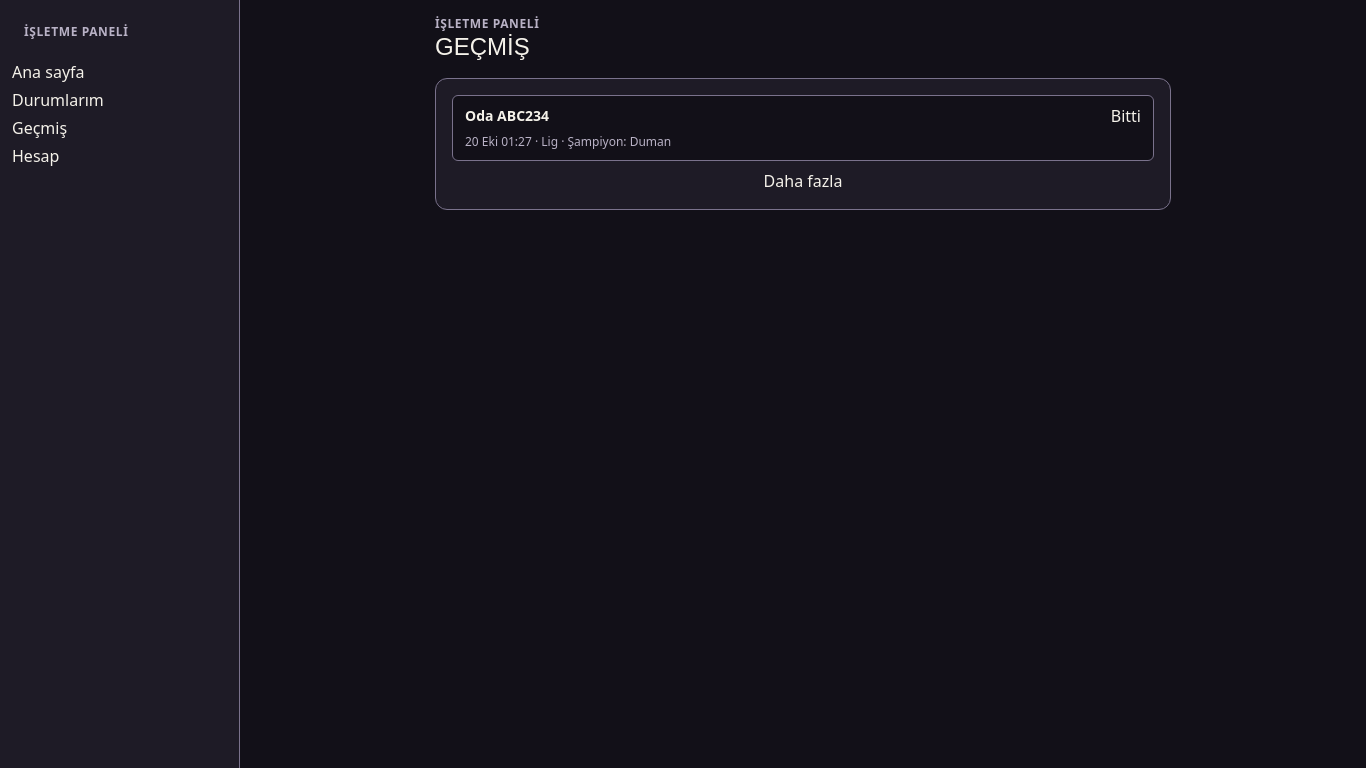
Test: BusinessHistoryPage › imleçle daha fazla yükler ve liste bitince butonu kaldırır
The width and height of the screenshot is (1366, 768).
Expected: the link "Oda ABC234 Bitti 20 Eki 01:27 · Lig · Şampiyon: Duman" is shown, x1=452 y1=95 x2=1154 y2=161
Click the button "Daha fazla". click: {"x": 803, "y": 181}
box: x1=452 y1=169 x2=1154 y2=193
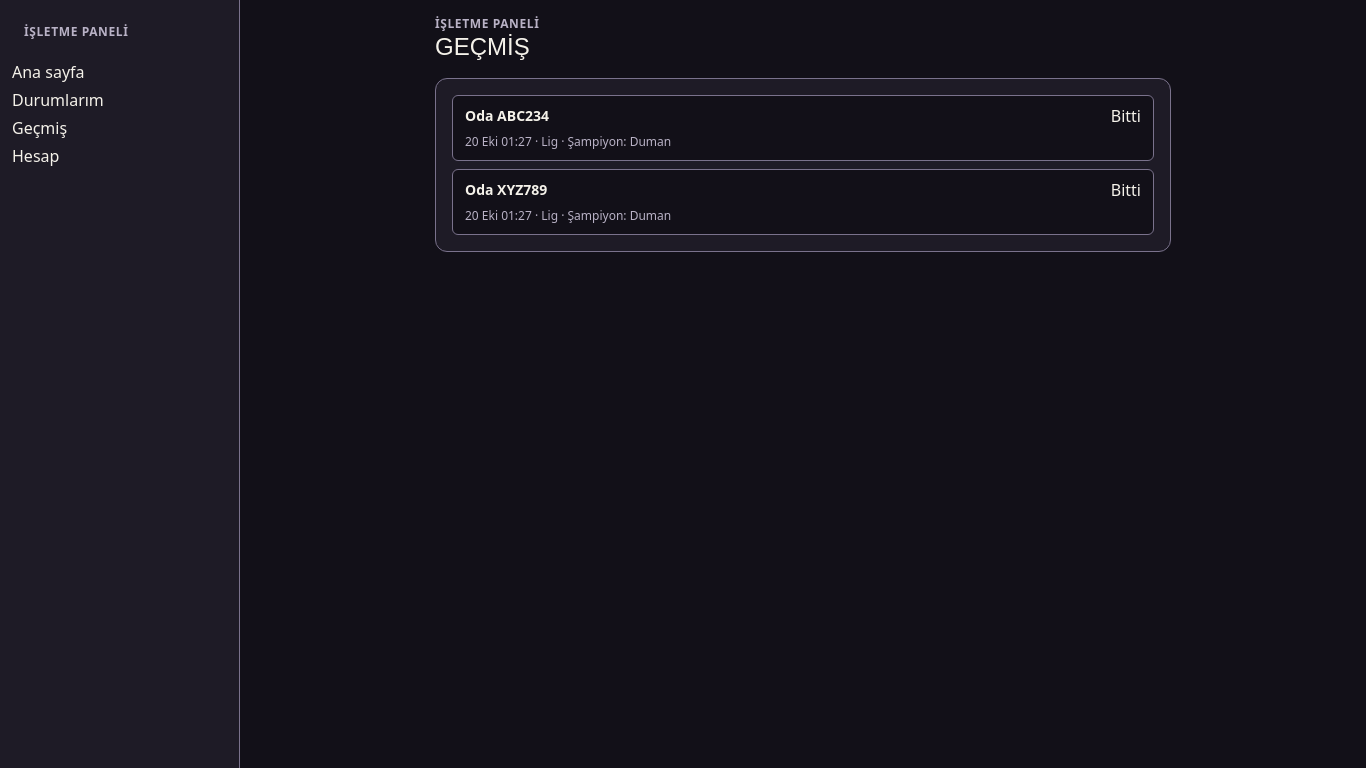
Result: the link "Oda XYZ789 Bitti 20 Eki 01:27 · Lig · Şampiyon: Duman" is shown at x1=452 y1=169 x2=1154 y2=235
Result: the button "Daha fazla" is gone
